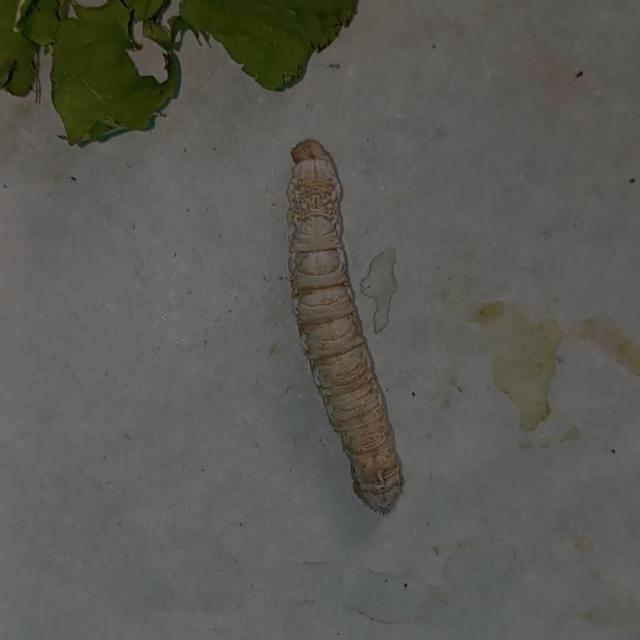Grasserie: (272, 122, 420, 519)
